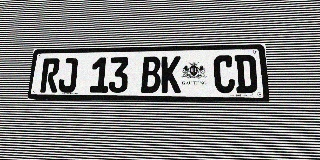1: (90, 57, 110, 93)
3: (109, 57, 129, 93)
B: (141, 56, 161, 93)
C: (213, 55, 235, 93)
D: (234, 55, 258, 93)
J: (58, 58, 78, 93)
K: (161, 56, 181, 93)
R: (40, 58, 60, 93)
